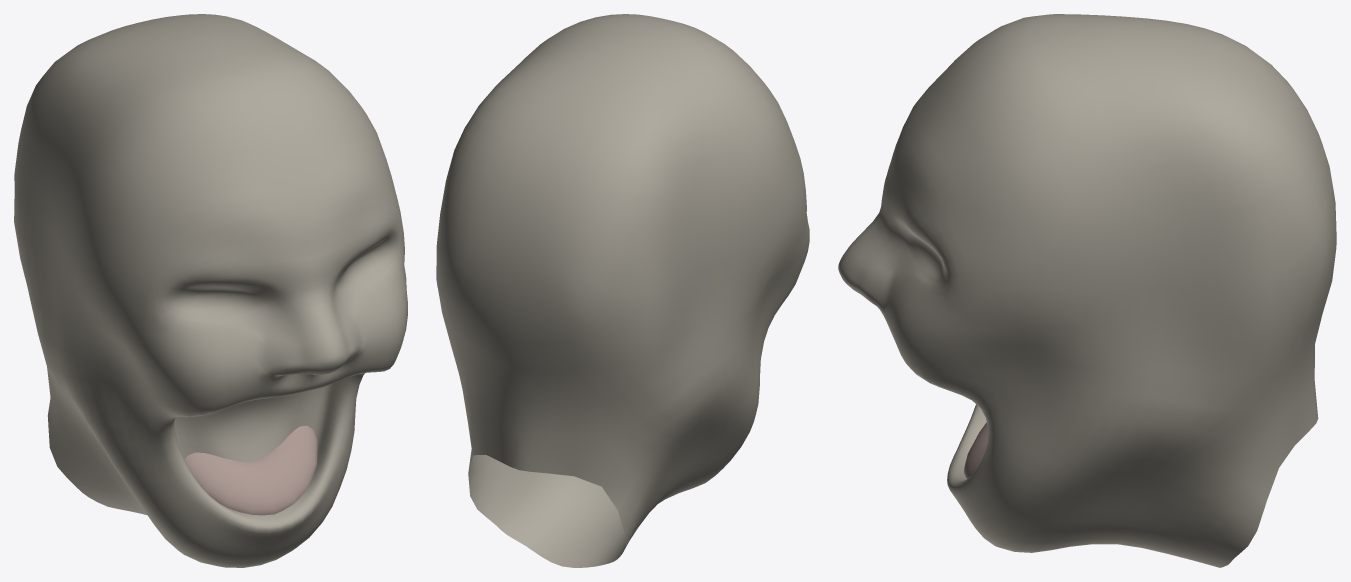
Rendered from Head.fbx.
3 views of the same model, side by side, from view 1: azimuth 30°, elevation 25°; view 2: azimuth 150°, elevation 25°; view 3: azimuth 270°, elevation 25° (orthographic). The views are drawn at different scales.
Parts seen in each view (by area): view 1: pTorus5; view 2: pTorus5; view 3: pTorus5.
Boxes of the visible parts, x1=… form: pTorus5: x1=14, y1=14, x2=407, y2=567; pTorus5: x1=436, y1=14, x2=809, y2=567; pTorus5: x1=838, y1=14, x2=1336, y2=567.
Size of the model in its own units: 112 by 189 by 163.
